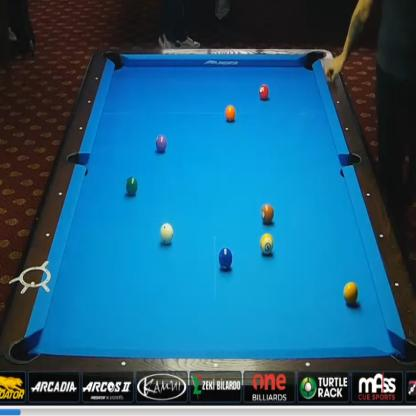Ball: (343, 282, 358, 304), (260, 233, 274, 255), (160, 223, 173, 246), (219, 248, 232, 270), (261, 204, 274, 224), (126, 176, 138, 195), (155, 135, 167, 152), (225, 104, 236, 121), (259, 84, 269, 100)
